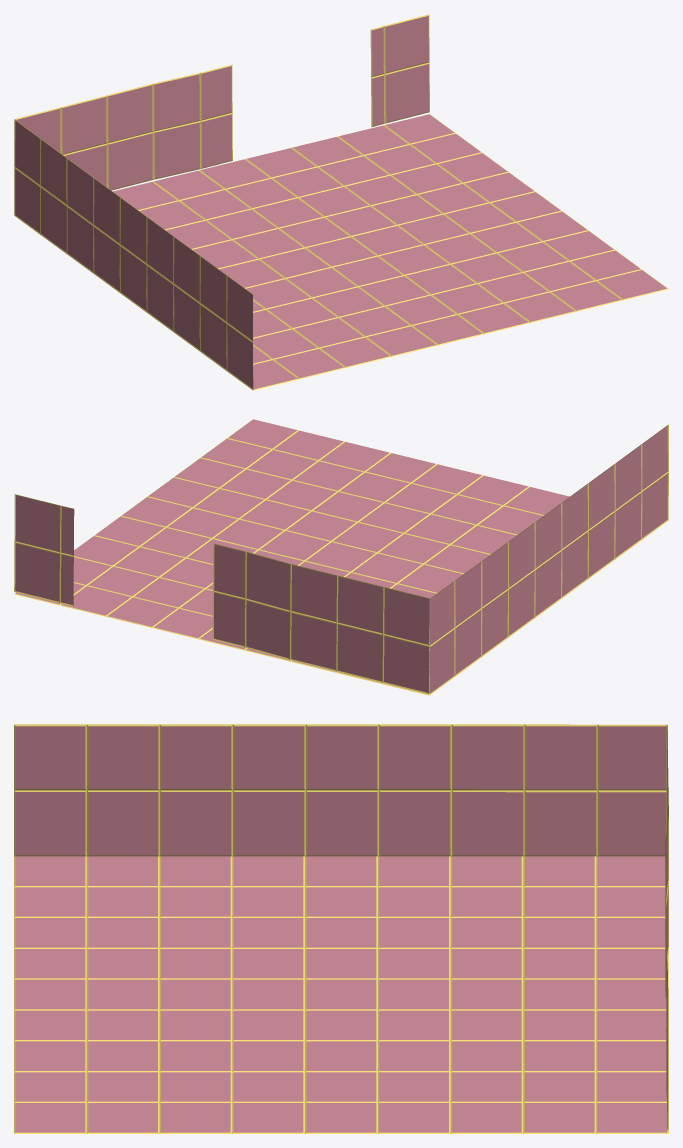
Rendered from Laundry_floortile.fbx.
The picture shows the model from 3 angles, top to bottom: view 1: azimuth 30°, elevation 25°; view 2: azimuth 150°, elevation 25°; view 3: azimuth 270°, elevation 25°; orthographic projection. The views are drawn at different scales.
Visible parts, largest first — view 1: Laundry_floortile; view 2: Laundry_floortile; view 3: Laundry_floortile.
Boxes of the visible parts, box(x1,y1,x2,y2) form: Laundry_floortile: box(14, 14, 668, 390); Laundry_floortile: box(14, 419, 668, 695); Laundry_floortile: box(14, 724, 668, 1133).
Size of the model in its own units: 491 by 113 by 489.
